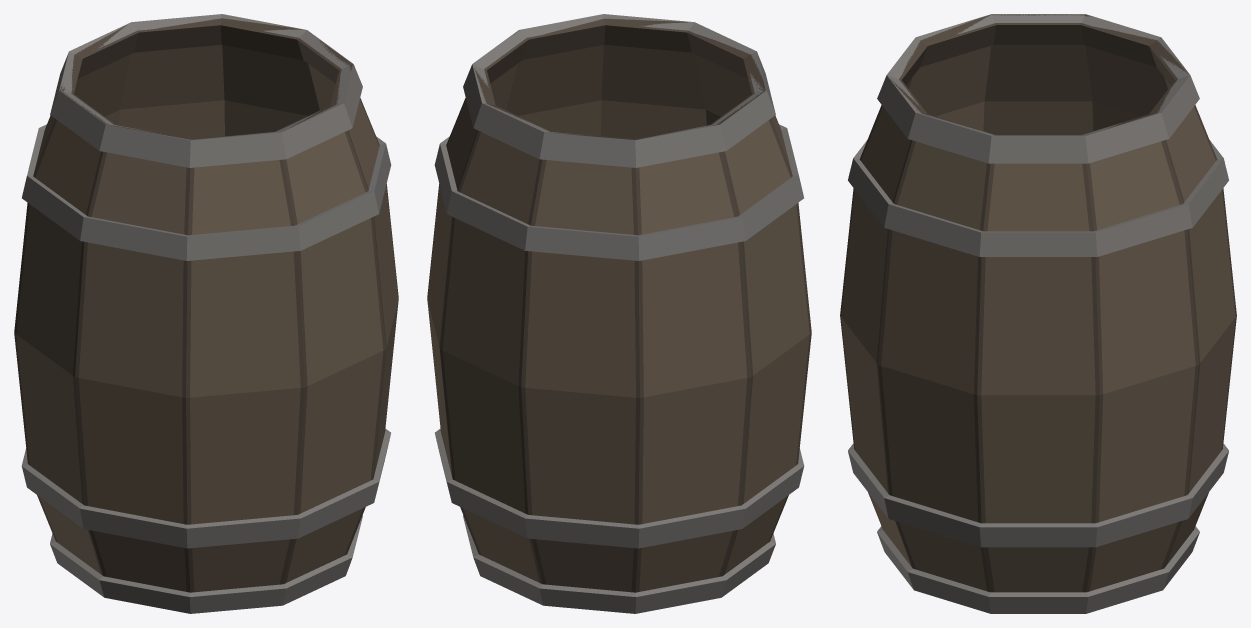
The model's file is SM_Props_Farm_Barrel_Wood_Open.fbx.
The picture shows the model from 3 angles, left to right: view 1: azimuth 30°, elevation 25°; view 2: azimuth 150°, elevation 25°; view 3: azimuth 270°, elevation 25°; orthographic projection.
Parts seen in each view (by area): view 1: SM_Props_Farm_Barrel_Wood_Open; view 2: SM_Props_Farm_Barrel_Wood_Open; view 3: SM_Props_Farm_Barrel_Wood_Open.
Part boxes in pixels (x1,y1,x2,y2): SM_Props_Farm_Barrel_Wood_Open: [14, 14, 398, 613]; SM_Props_Farm_Barrel_Wood_Open: [427, 14, 811, 613]; SM_Props_Farm_Barrel_Wood_Open: [840, 14, 1236, 613].
Bounding box in the file's own units: 90.39 × 126 × 95.04.
